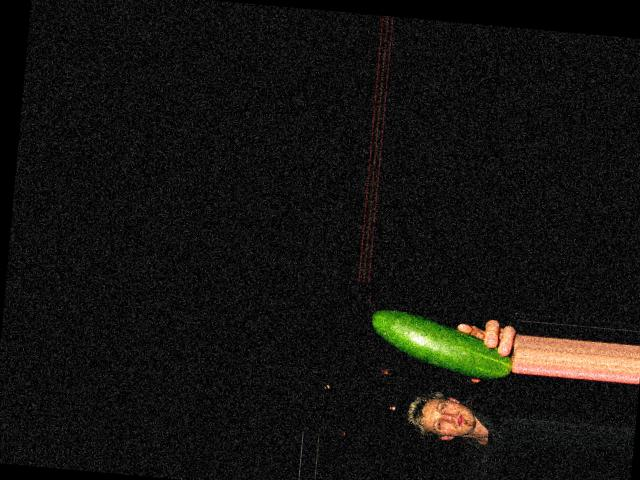cucumber: (368, 307, 514, 379)
